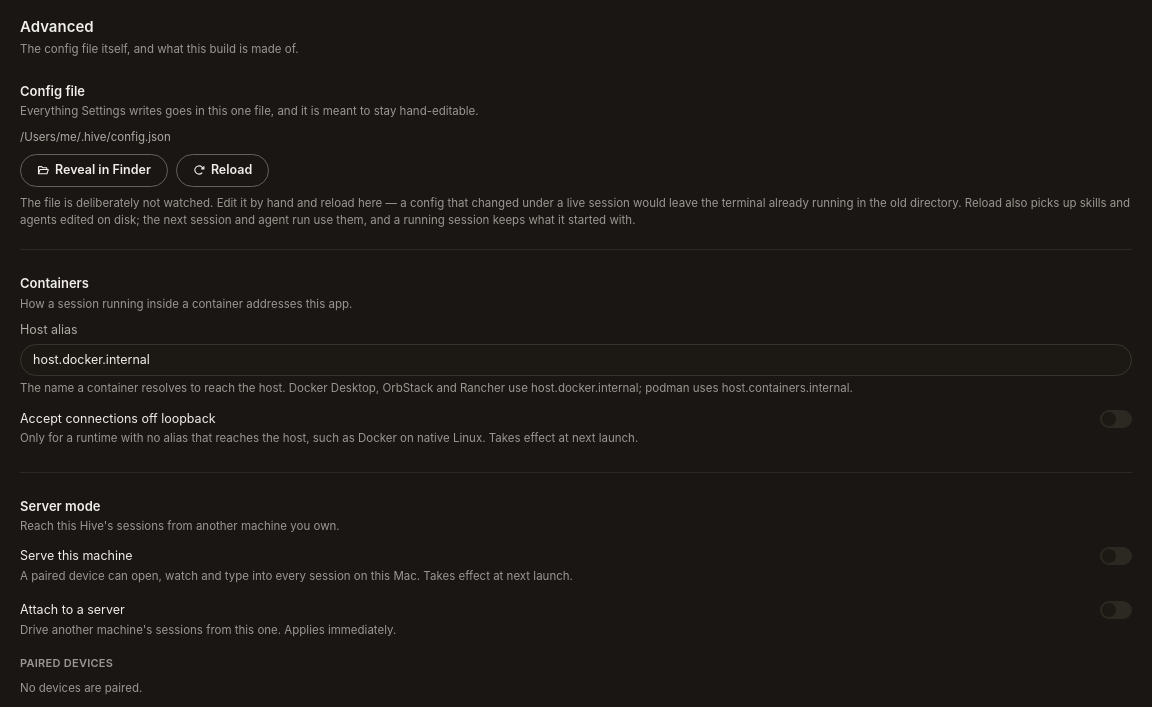
Test: AdvancedSection › reports what a reload found
The image size is (1152, 707).
Click the button "Reload". click: coordinates (223, 170)
box: [176,154,269,187]
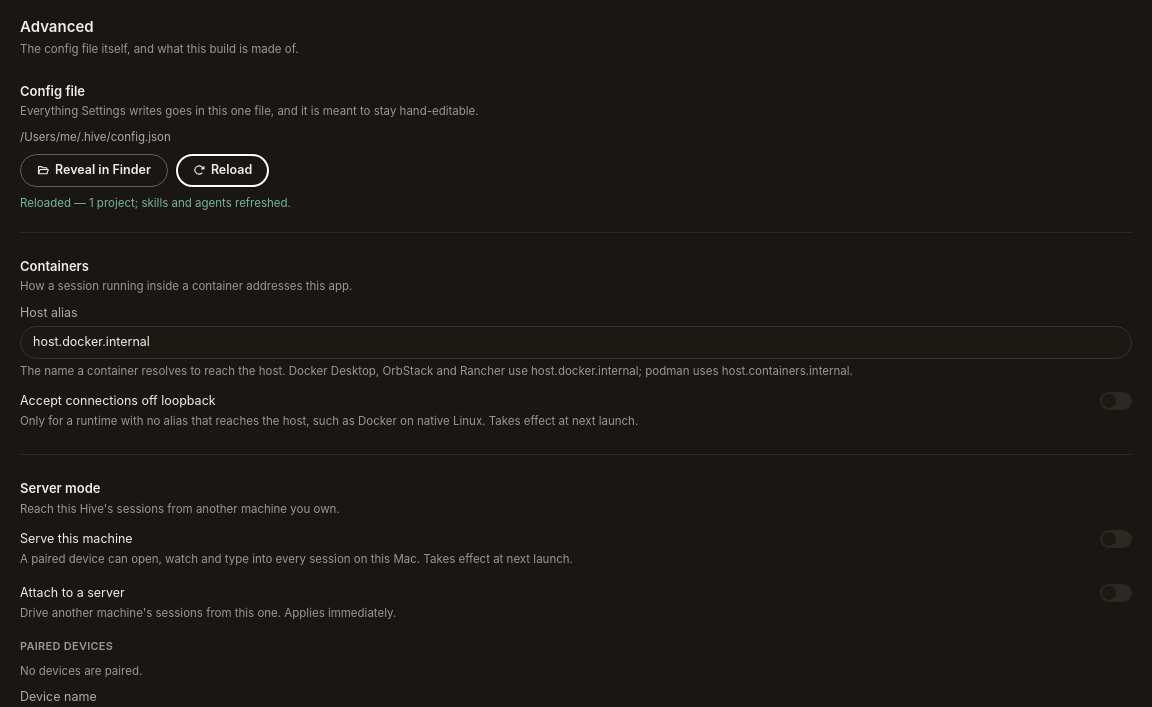
expect the text "Reloaded — 1 project; skills and agents refreshed." is shown: met, box [20,196,291,210]
